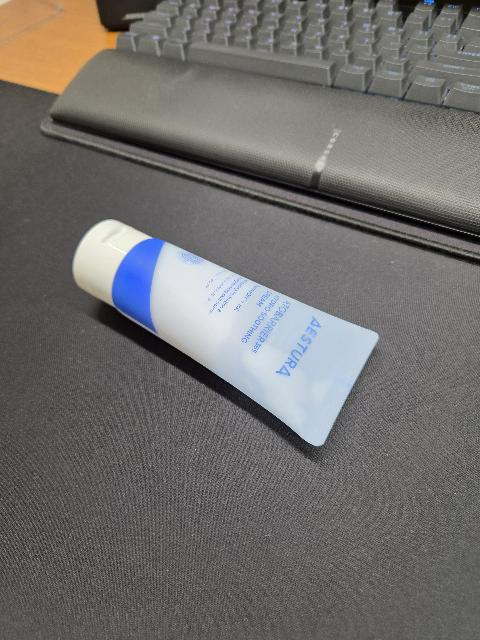handcream: (73, 219, 378, 446)
